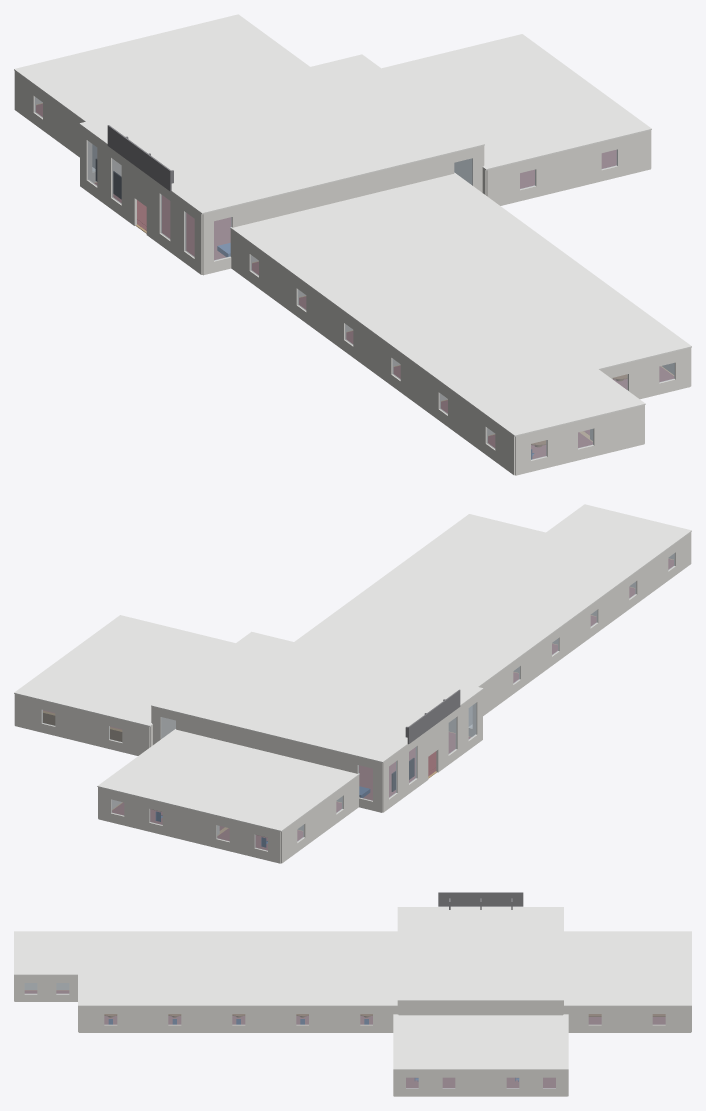
File: mpai.glb
The picture shows the model from 3 angles, top to bottom: view 1: azimuth 30°, elevation 25°; view 2: azimuth 150°, elevation 25°; view 3: azimuth 270°, elevation 25°; orthographic projection. The views are drawn at different scales.
Bounding box in the file's own units: 38.35 × 6.78 × 74.2.
